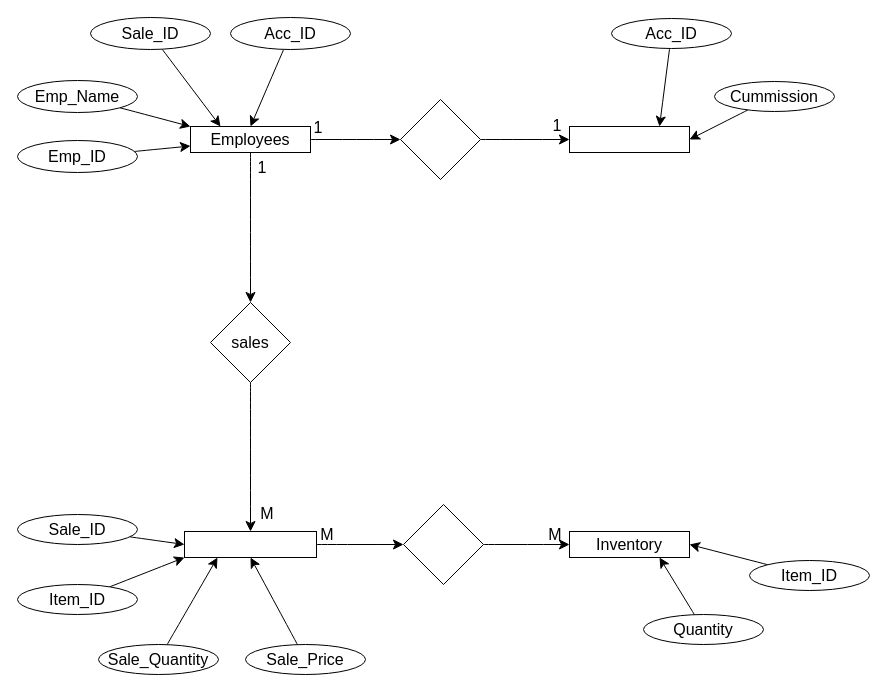
Image size: 887x692. Some labels were removed from this diagram. The centre of each missing label's shape, as x and y in pixels:
Account: the point at 629,139
Computed_Sales: the point at 250,544
contains: the point at 443,544
get: the point at 440,139
